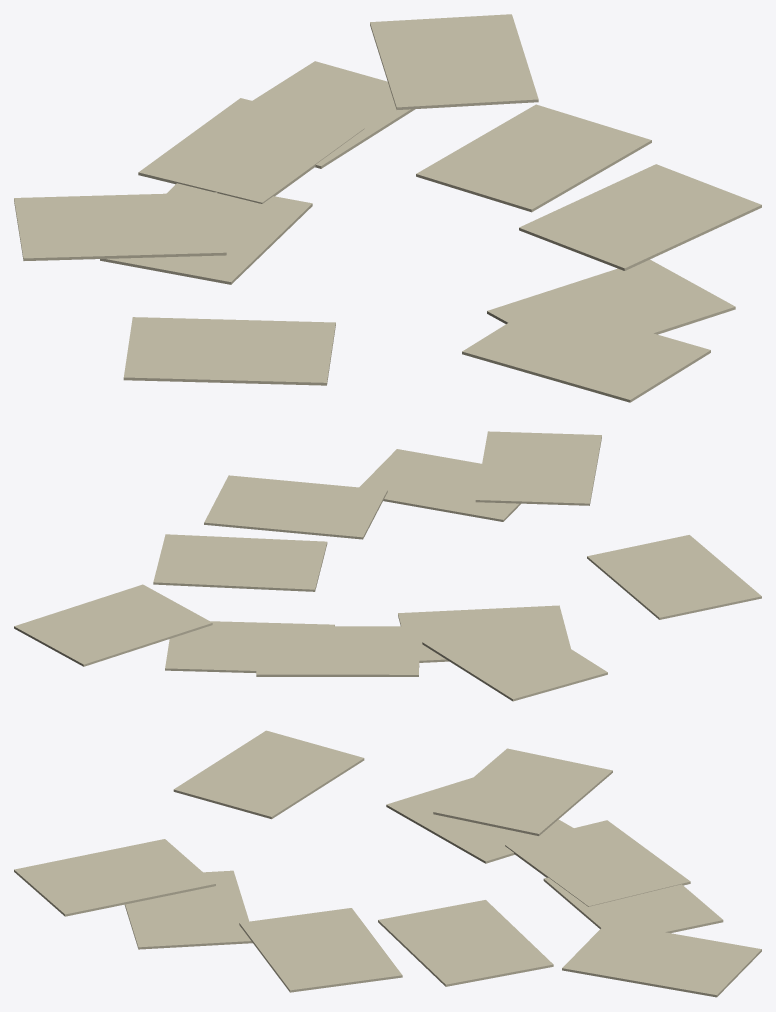
File: H_PaperDebris.fbx
3 views of the same model, one above another, from view 1: azimuth 30°, elevation 25°; view 2: azimuth 150°, elevation 25°; view 3: azimuth 270°, elevation 25° (orthographic). The views are drawn at different scales.
Visible parts, largest first — view 1: H_PaperDebris; view 2: H_PaperDebris; view 3: H_PaperDebris.
Boxes of the visible parts, box(x1,y1,x2,y2) form: H_PaperDebris: box(14, 14, 761, 402); H_PaperDebris: box(14, 431, 761, 701); H_PaperDebris: box(14, 730, 761, 997).
Bounding box in the file's own units: 1.01 × 0.013 × 1.21.
